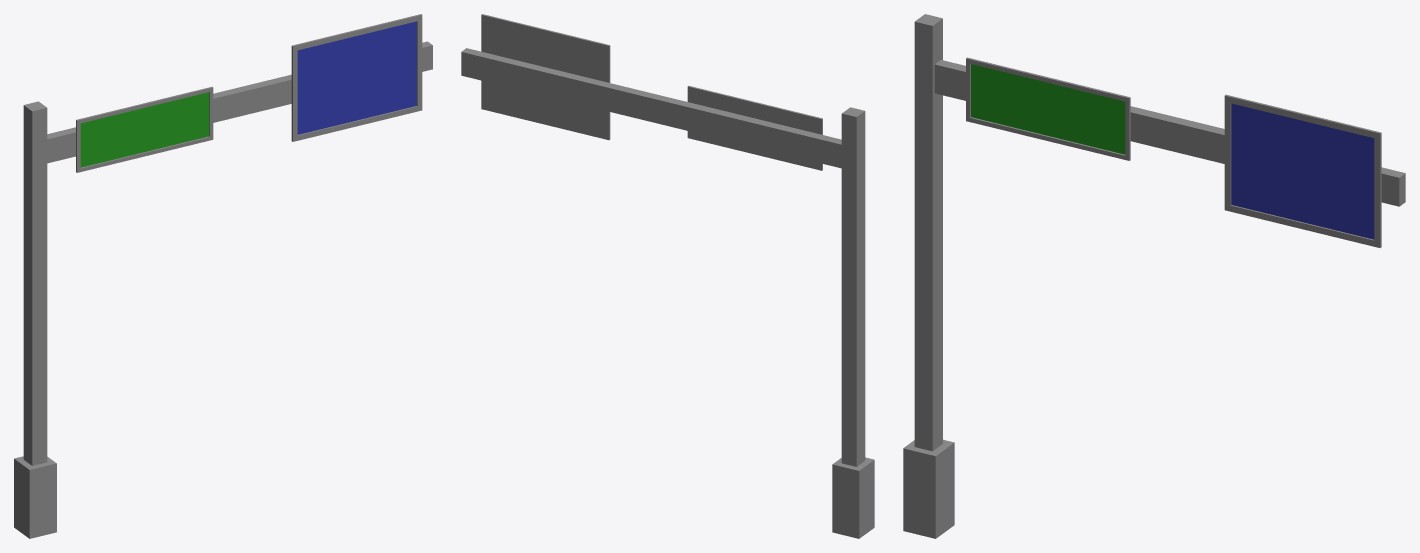
The model's file is Road Signs.fbx.
3 renders of one model, left to right at view 1: azimuth 30°, elevation 25°; view 2: azimuth 150°, elevation 25°; view 3: azimuth 330°, elevation 25°, orthographic. The views are drawn at different scales.
Visible parts, largest first — view 1: Road Signs; view 2: Road Signs; view 3: Road Signs.
Part boxes in pixels (box(x1,y1,x2,y2)): Road Signs: box(14, 14, 432, 538); Road Signs: box(461, 14, 874, 538); Road Signs: box(903, 14, 1405, 538).
Size of the model in its own units: 5.58 by 0.3711 by 5.56.
